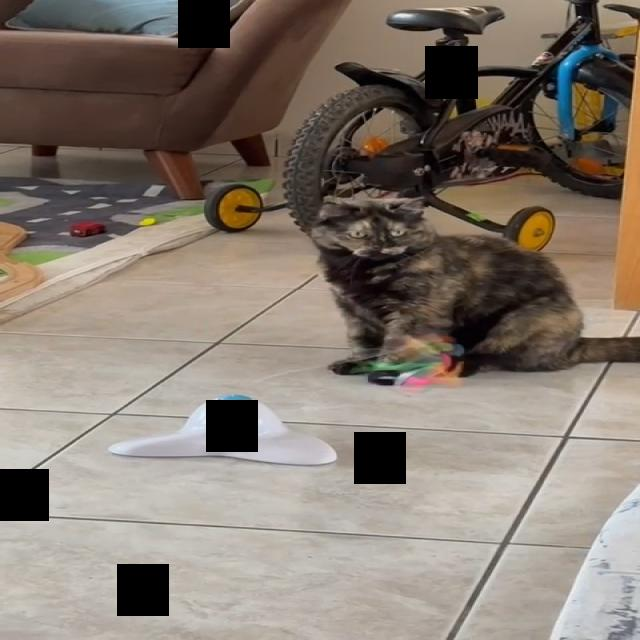authorized: (306, 195, 638, 378)
